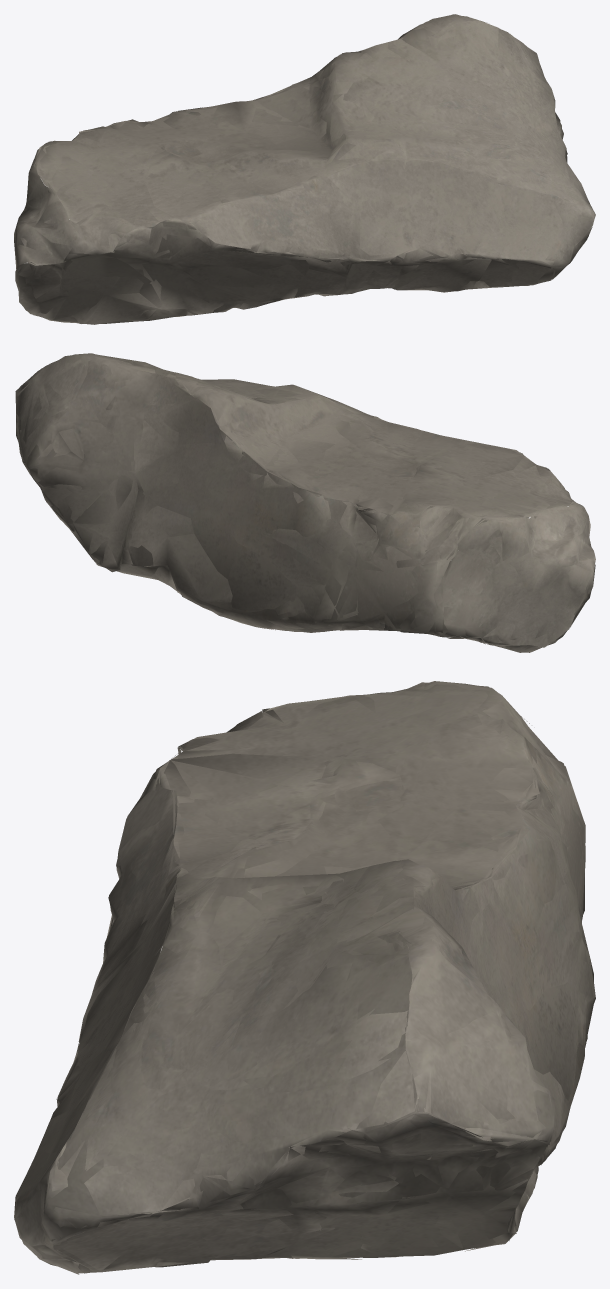
File: ph_moon_rock_01.glb
3 renders of one model, top to bottom at view 1: azimuth 30°, elevation 25°; view 2: azimuth 150°, elevation 25°; view 3: azimuth 270°, elevation 25°, orthographic. The views are drawn at different scales.
Visible parts, largest first — view 1: Hero; view 2: Hero; view 3: Hero.
Boxes of the visible parts, x1,y1,x2,y2 form: Hero: (14,14,595,324); Hero: (15,353,595,652); Hero: (14,681,595,1274).
Size of the model in its own units: 1 by 0.3554 by 0.5254.
Materials: 1 (1 with a texture image).
